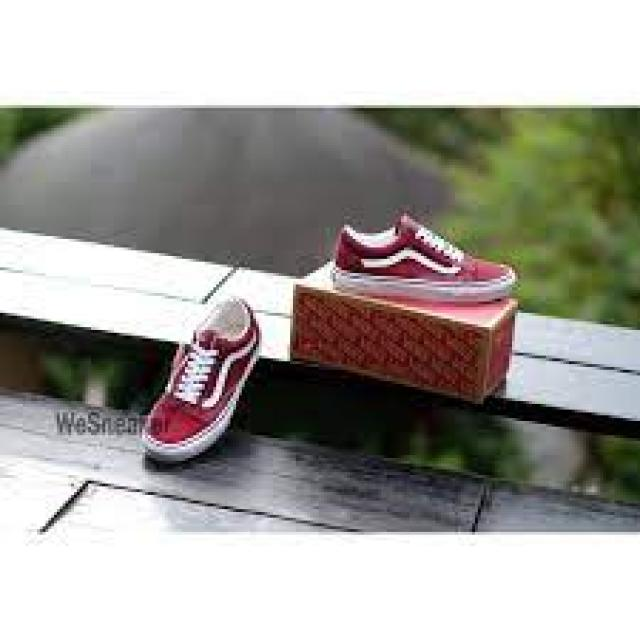shoe: (137, 296, 267, 470), (327, 209, 532, 315)
